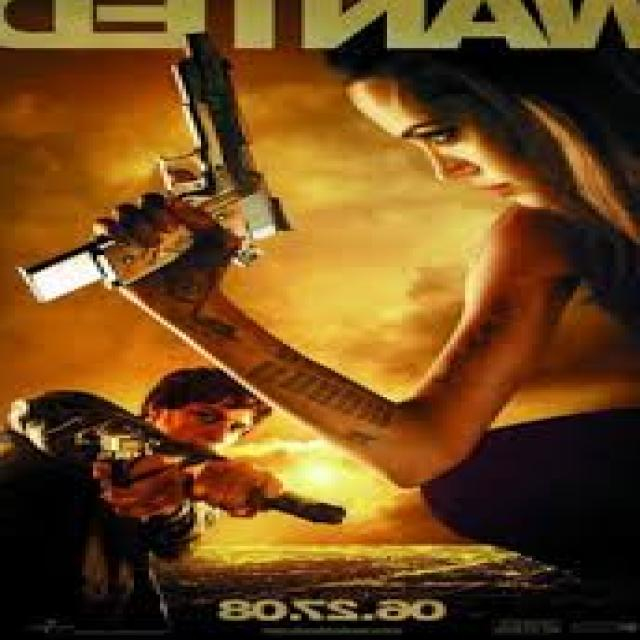gun: (16, 22, 299, 314), (137, 447, 361, 557)
